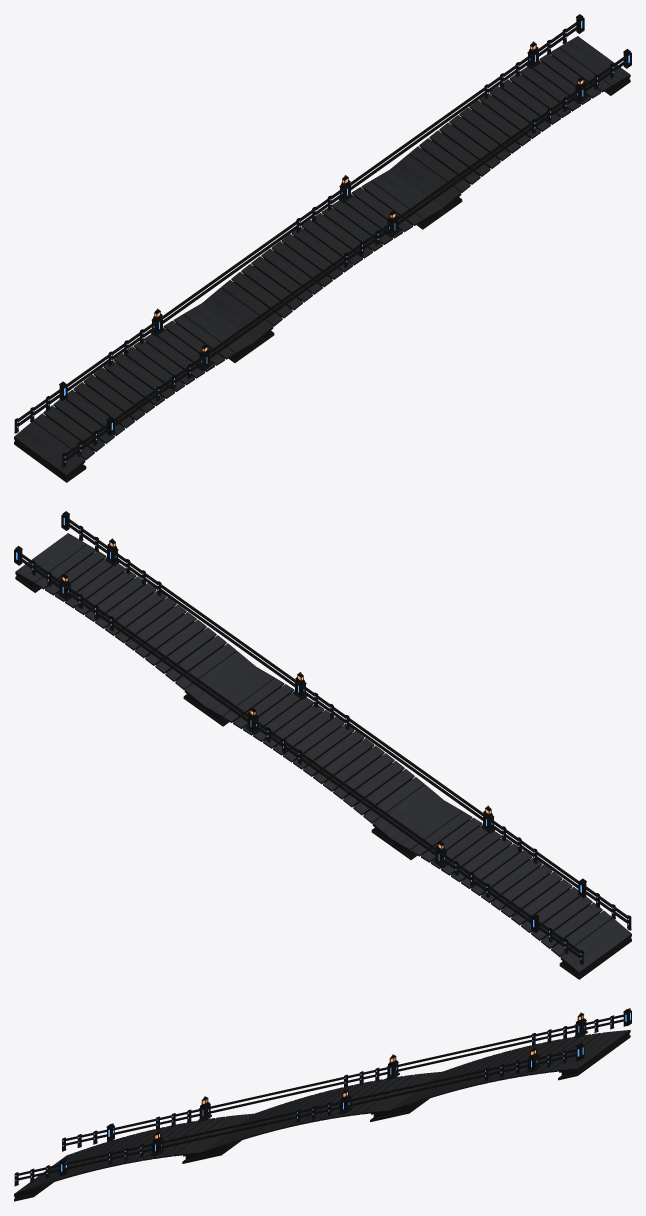
The model's file is bridge_garage_projects.glb.
The picture shows the model from 3 angles, top to bottom: view 1: azimuth 30°, elevation 25°; view 2: azimuth 150°, elevation 25°; view 3: azimuth 330°, elevation 25°; orthographic projection.
Parts seen in each view (by area): view 1: bridge; view 2: bridge; view 3: bridge.
Part boxes in pixels (x1,y1,x2,y2): bridge: (14, 14, 631, 482); bridge: (14, 511, 631, 979); bridge: (14, 1008, 631, 1201).
Size of the model in its own units: 12.45 by 6.14 by 2.
5 materials, 3 textured.
